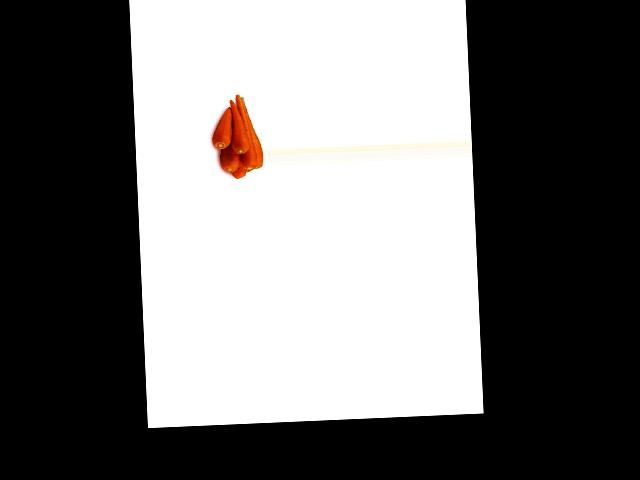carrot: (209, 104, 233, 149)
